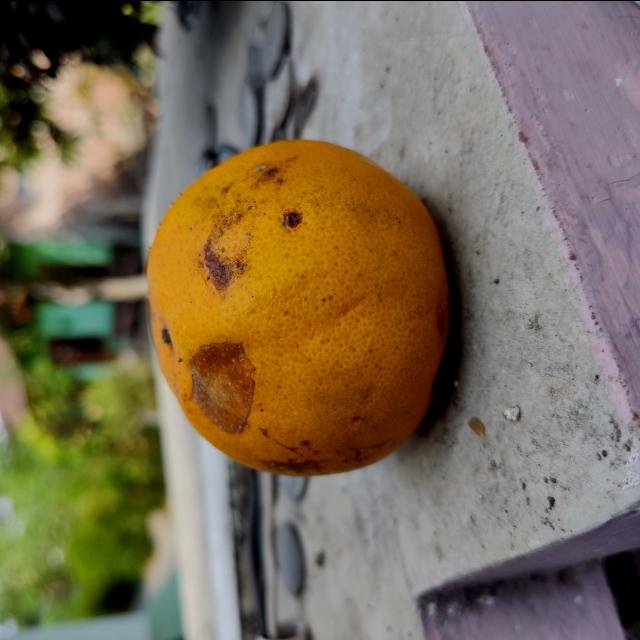orange: (144, 136, 454, 476)
